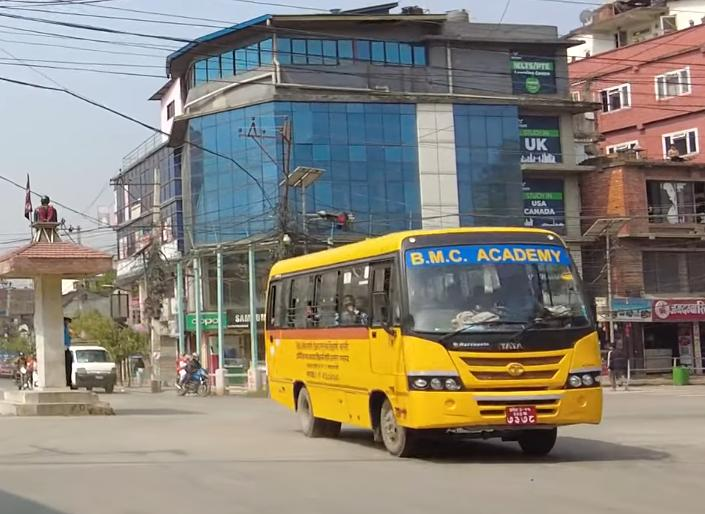bike: (173, 366, 212, 401)
school_bus: (264, 222, 606, 466)
